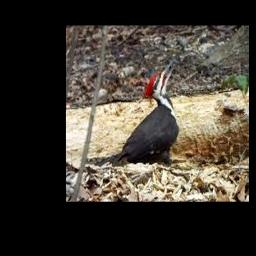Woodpecker: (94, 61, 179, 167)
